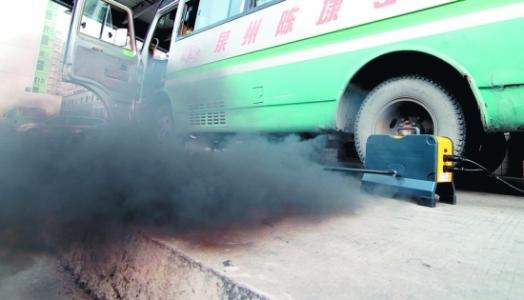smoke: (1, 103, 359, 259)
